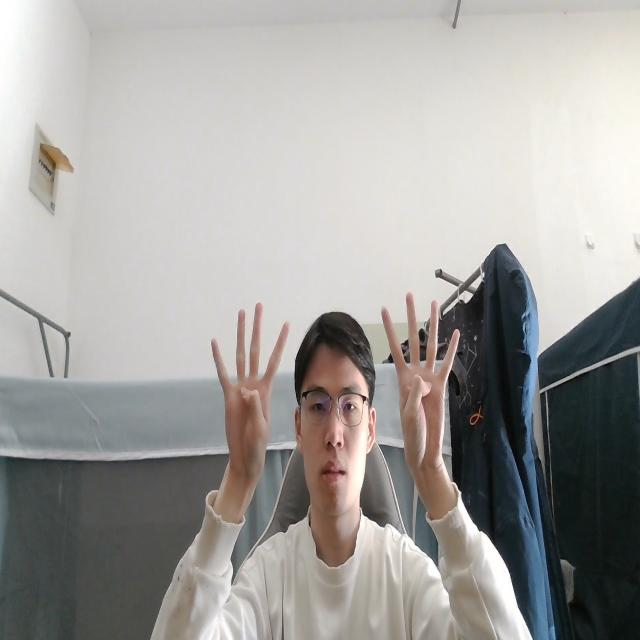four: (209, 296, 290, 498), (382, 288, 460, 492)
